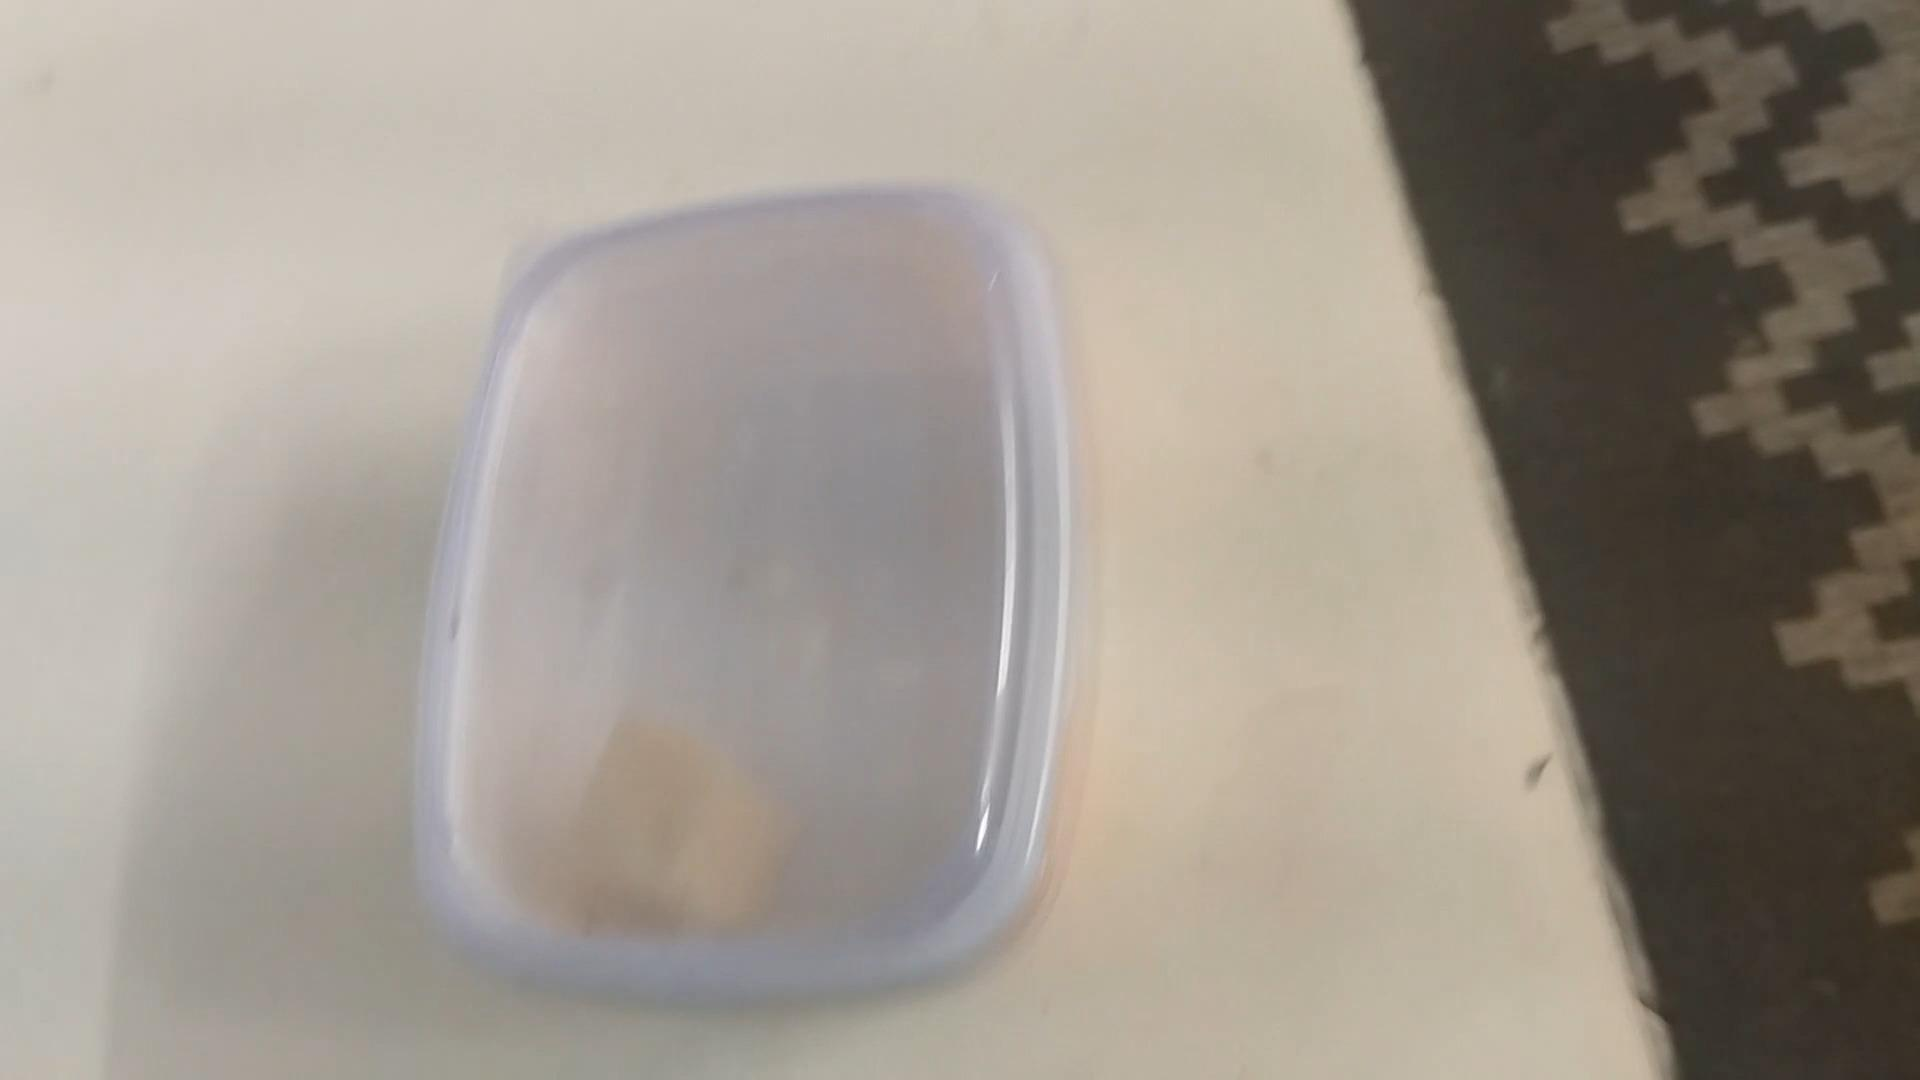butter: (417, 193, 1077, 1014)
